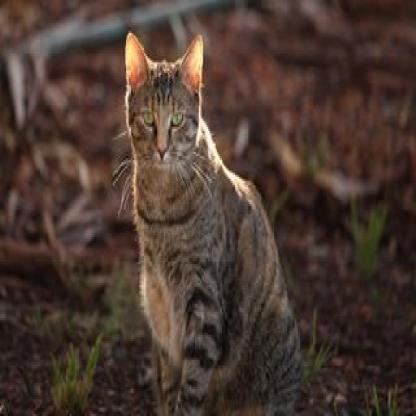cat: (119, 51, 288, 406)
